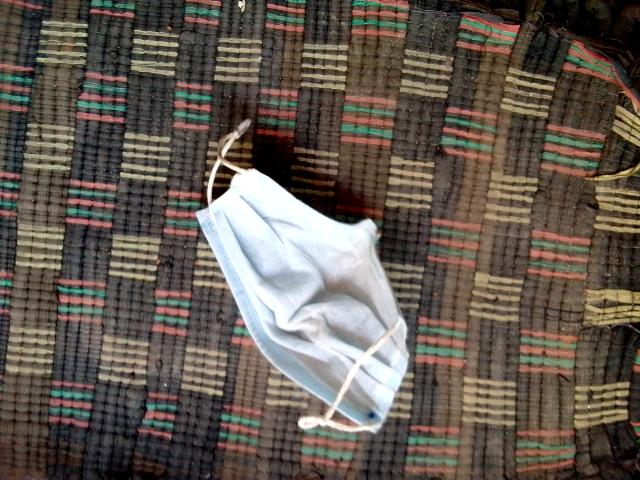mask: (191, 106, 415, 457)
